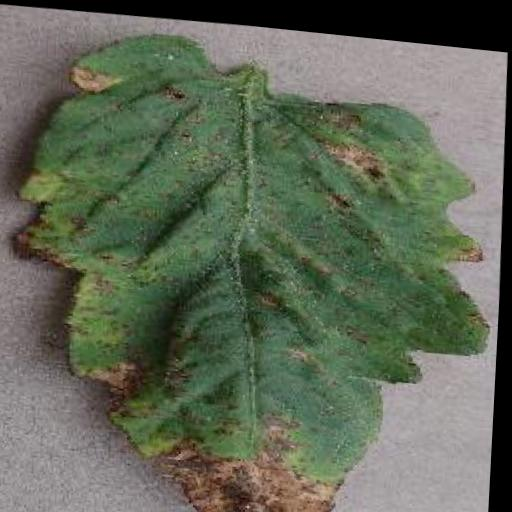Bacterial Spot: (0, 10, 512, 512)
